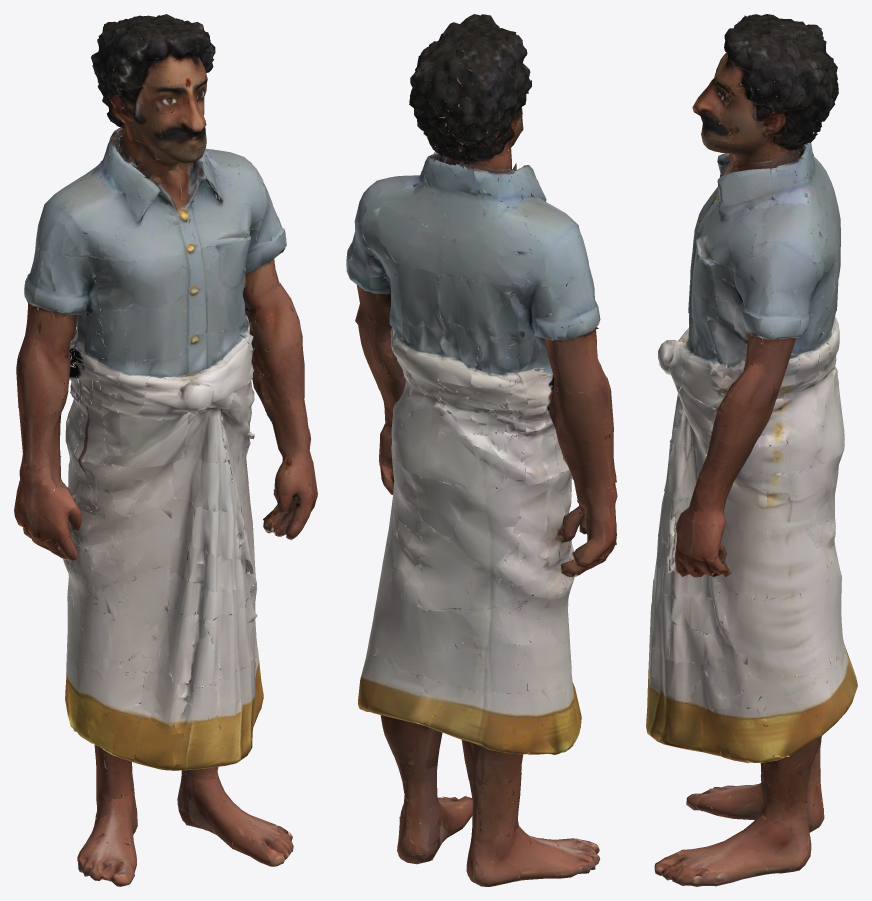
Rendered from sf_man_veshti.glb.
3 views of the same model, side by side, from view 1: azimuth 30°, elevation 25°; view 2: azimuth 150°, elevation 25°; view 3: azimuth 270°, elevation 25° (orthographic).
Visible parts, largest first — view 1: sf_man_veshti; view 2: sf_man_veshti; view 3: sf_man_veshti.
Boxes of the visible parts, x1,y1,x2,y2 form: sf_man_veshti: (14,14,317,886); sf_man_veshti: (346,14,617,886); sf_man_veshti: (646,14,857,886).
Size of the model in its own units: 0.5755 by 1.7 by 0.3989.
Materials: 1 (1 with a texture image).
